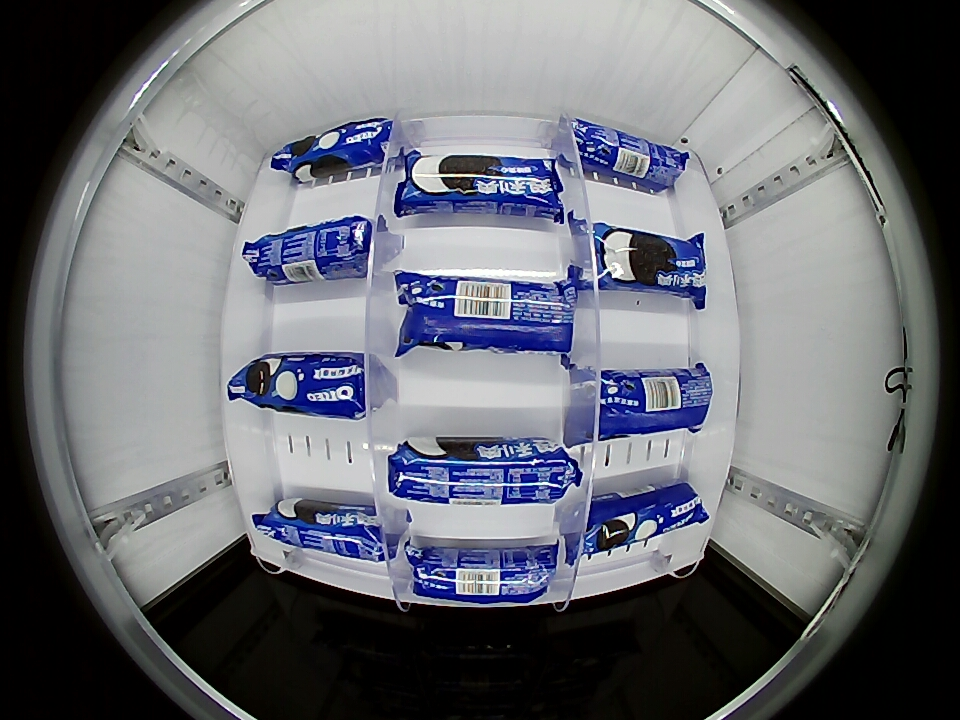aoliao: (386, 438, 579, 515), (396, 272, 576, 354), (568, 220, 706, 295), (398, 152, 562, 214), (229, 351, 371, 420), (405, 543, 560, 604), (245, 214, 377, 285), (564, 120, 689, 193), (569, 485, 699, 555), (265, 493, 398, 559), (591, 369, 714, 437), (274, 116, 393, 176)
